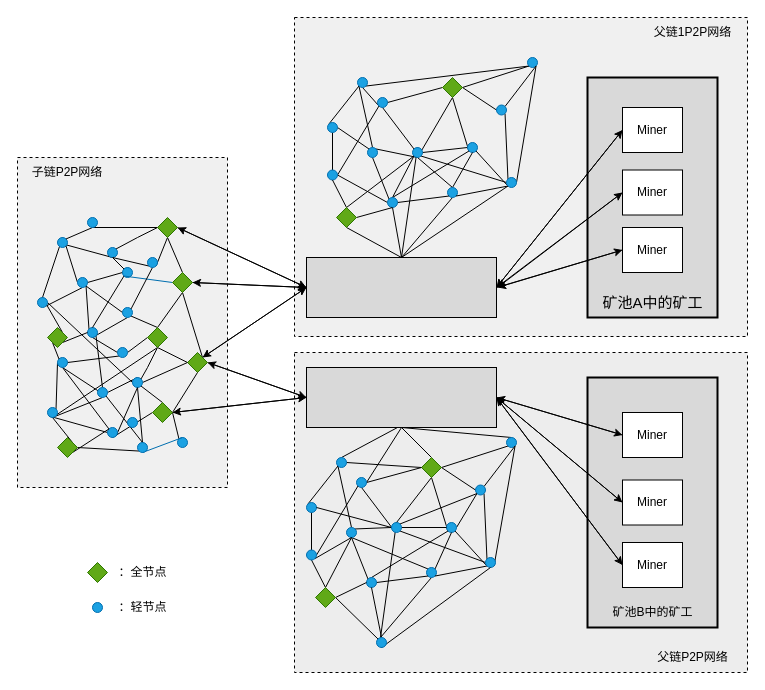
Some shapes in this 765 by 690 pixel diagram are drawn without their labels. The centre of each missing label's shape, as x and y in pixels:
"矿池A" goes at [401,287].
"矿池B" goes at [401,397].
